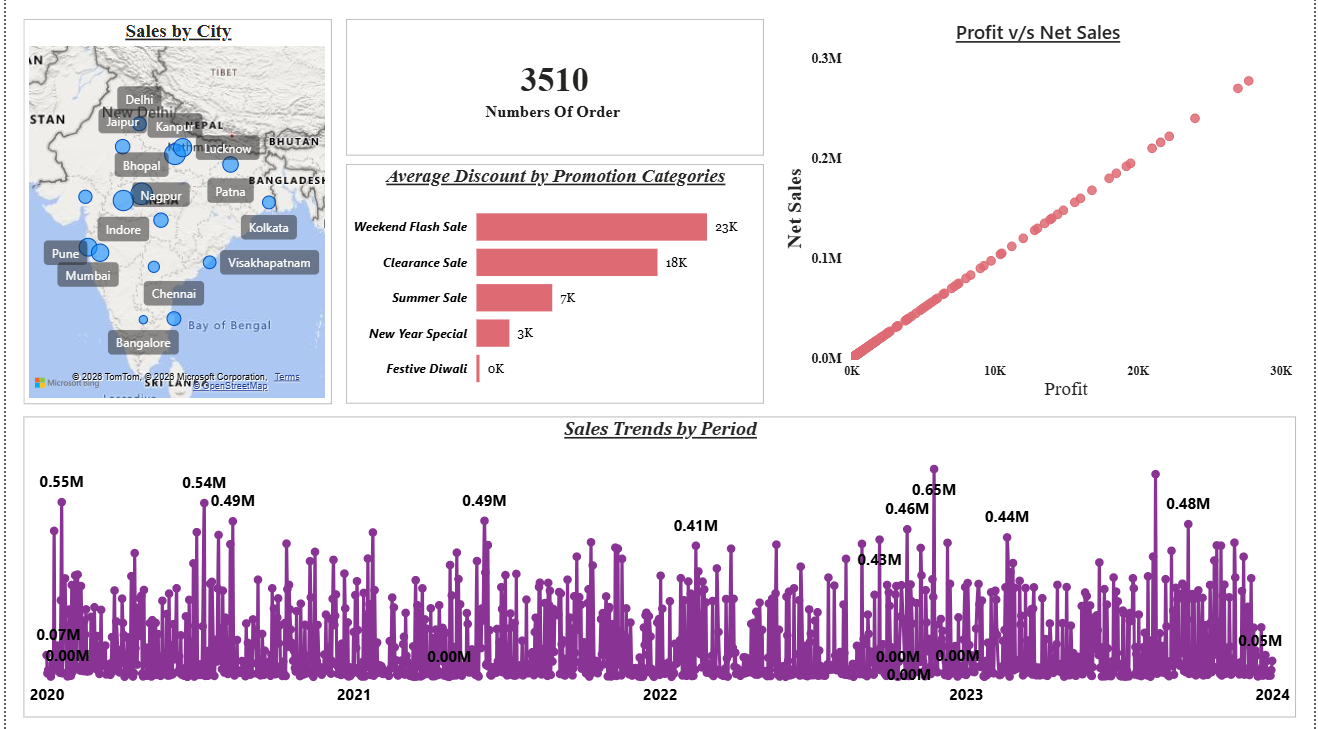

What the dashboard file says about the page in this screenshot:
{"tool":"powerbi","page":{"name":"Overview","canvas":[1280,720],"ordinal":0},"visuals":[{"type":"lineChart","title":" Sales Trends by Period","fields":{"Y":["Sum(Fact Table.Net Sales)"],"Category":["Fact Table.Date (dd/mm/yyyy).Variation.Date Hierarchy.Year"]},"box":[17.4,413,1244.9,294.2],"z":0},{"type":"scatterChart","title":"Profit v/s Net Sales","fields":{"X":["Fact Table.Profit"],"Y":["Fact Table.Net Sales"]},"box":[755.1,24.4,507.7,376.9],"z":1000},{"type":"barChart","title":"Average  Discount by Promotion Categories","fields":{"Y":["Avg(Fact Table.Discount)"],"Category":["Dim Promotion.Promotion Name"]},"box":[332.1,166.7,409,234.6],"z":2000},{"type":"map","title":"Sales by City","fields":{"Category":["Dim Customers.City"],"Size":["Sum(Fact Table.Net Sales)"]},"box":[17.4,24.6,301.4,376.8],"z":3000},{"type":"card","fields":{"Values":["Count(Fact Table.Order ID)"]},"box":[332.1,24.4,409,133.3],"z":4000}]}

Visuals, with their boxes in screenshot pixels (x1, y1, x2, y2), scaled from the page's 1280x720 canvas onto the 1318x729 screenshot:
" Sales Trends by Period" lineChart: x1=18 y1=418 x2=1300 y2=716
"Profit v/s Net Sales" scatterChart: x1=778 y1=25 x2=1300 y2=406
"Average  Discount by Promotion Categories" barChart: x1=342 y1=169 x2=763 y2=406
"Sales by City" map: x1=18 y1=25 x2=328 y2=406
card - Count(Fact Table.Order ID): x1=342 y1=25 x2=763 y2=160
